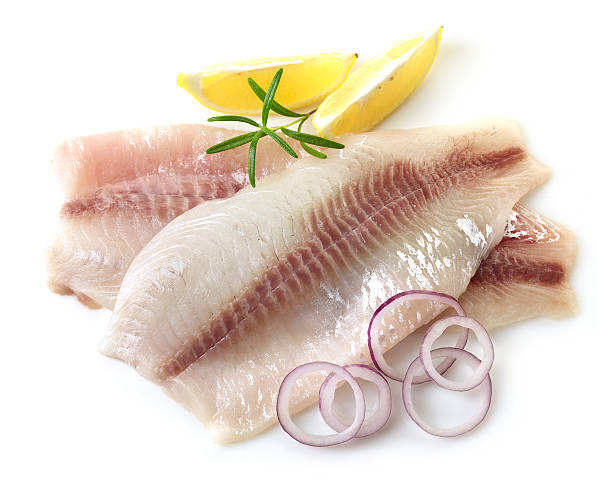bream-fish: (99, 118, 551, 445)
